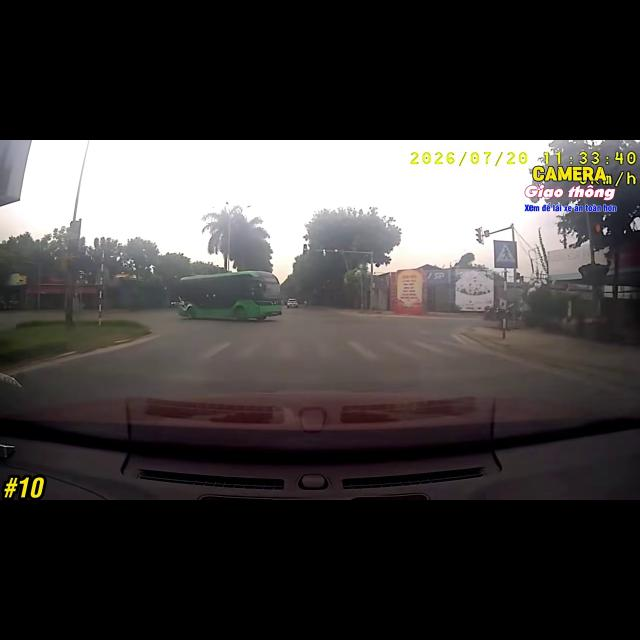bus: (178, 271, 281, 320)
car: (287, 299, 298, 307)
